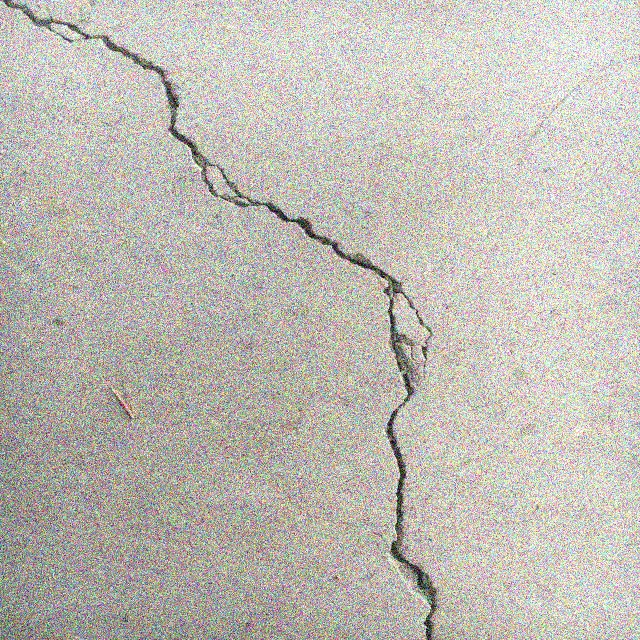SurfaceCrack: (3, 0, 484, 640), (508, 1, 639, 176)
